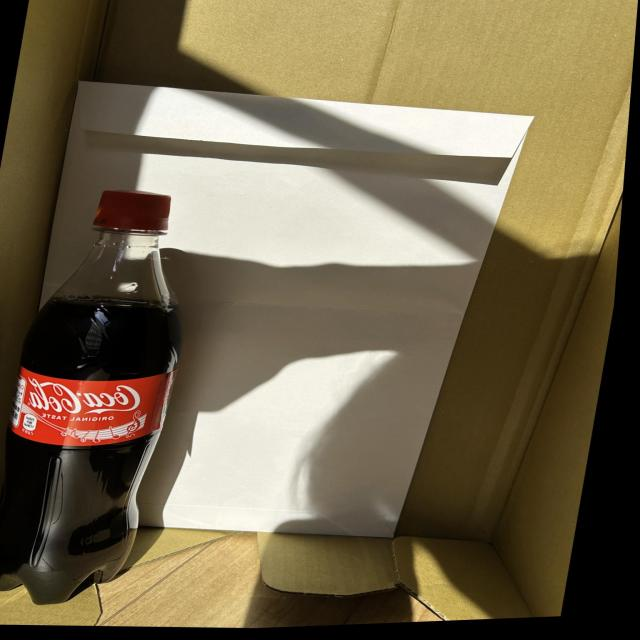high: (0, 191, 182, 604)
